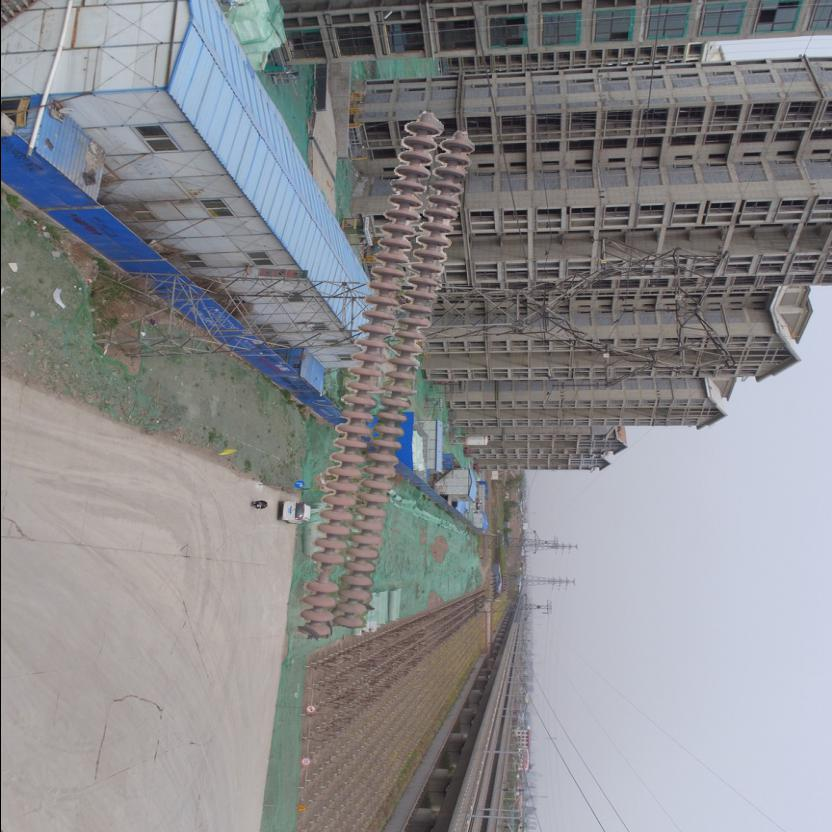defect: (301, 548, 348, 600)
